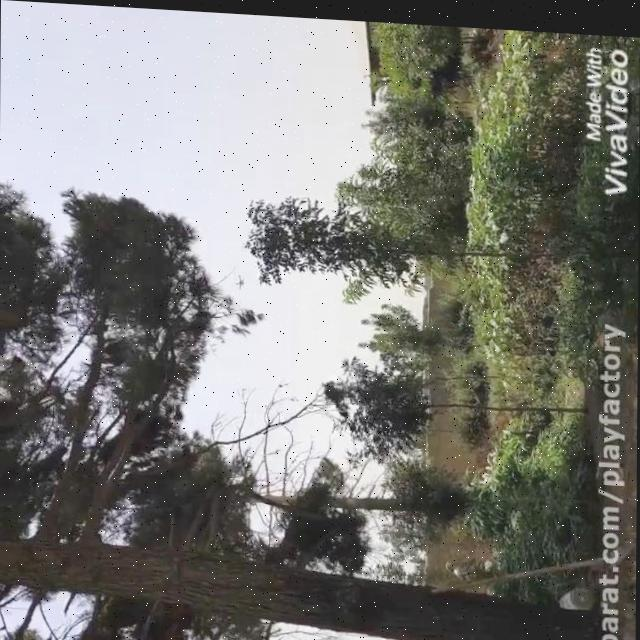drone: (230, 271, 248, 290)
